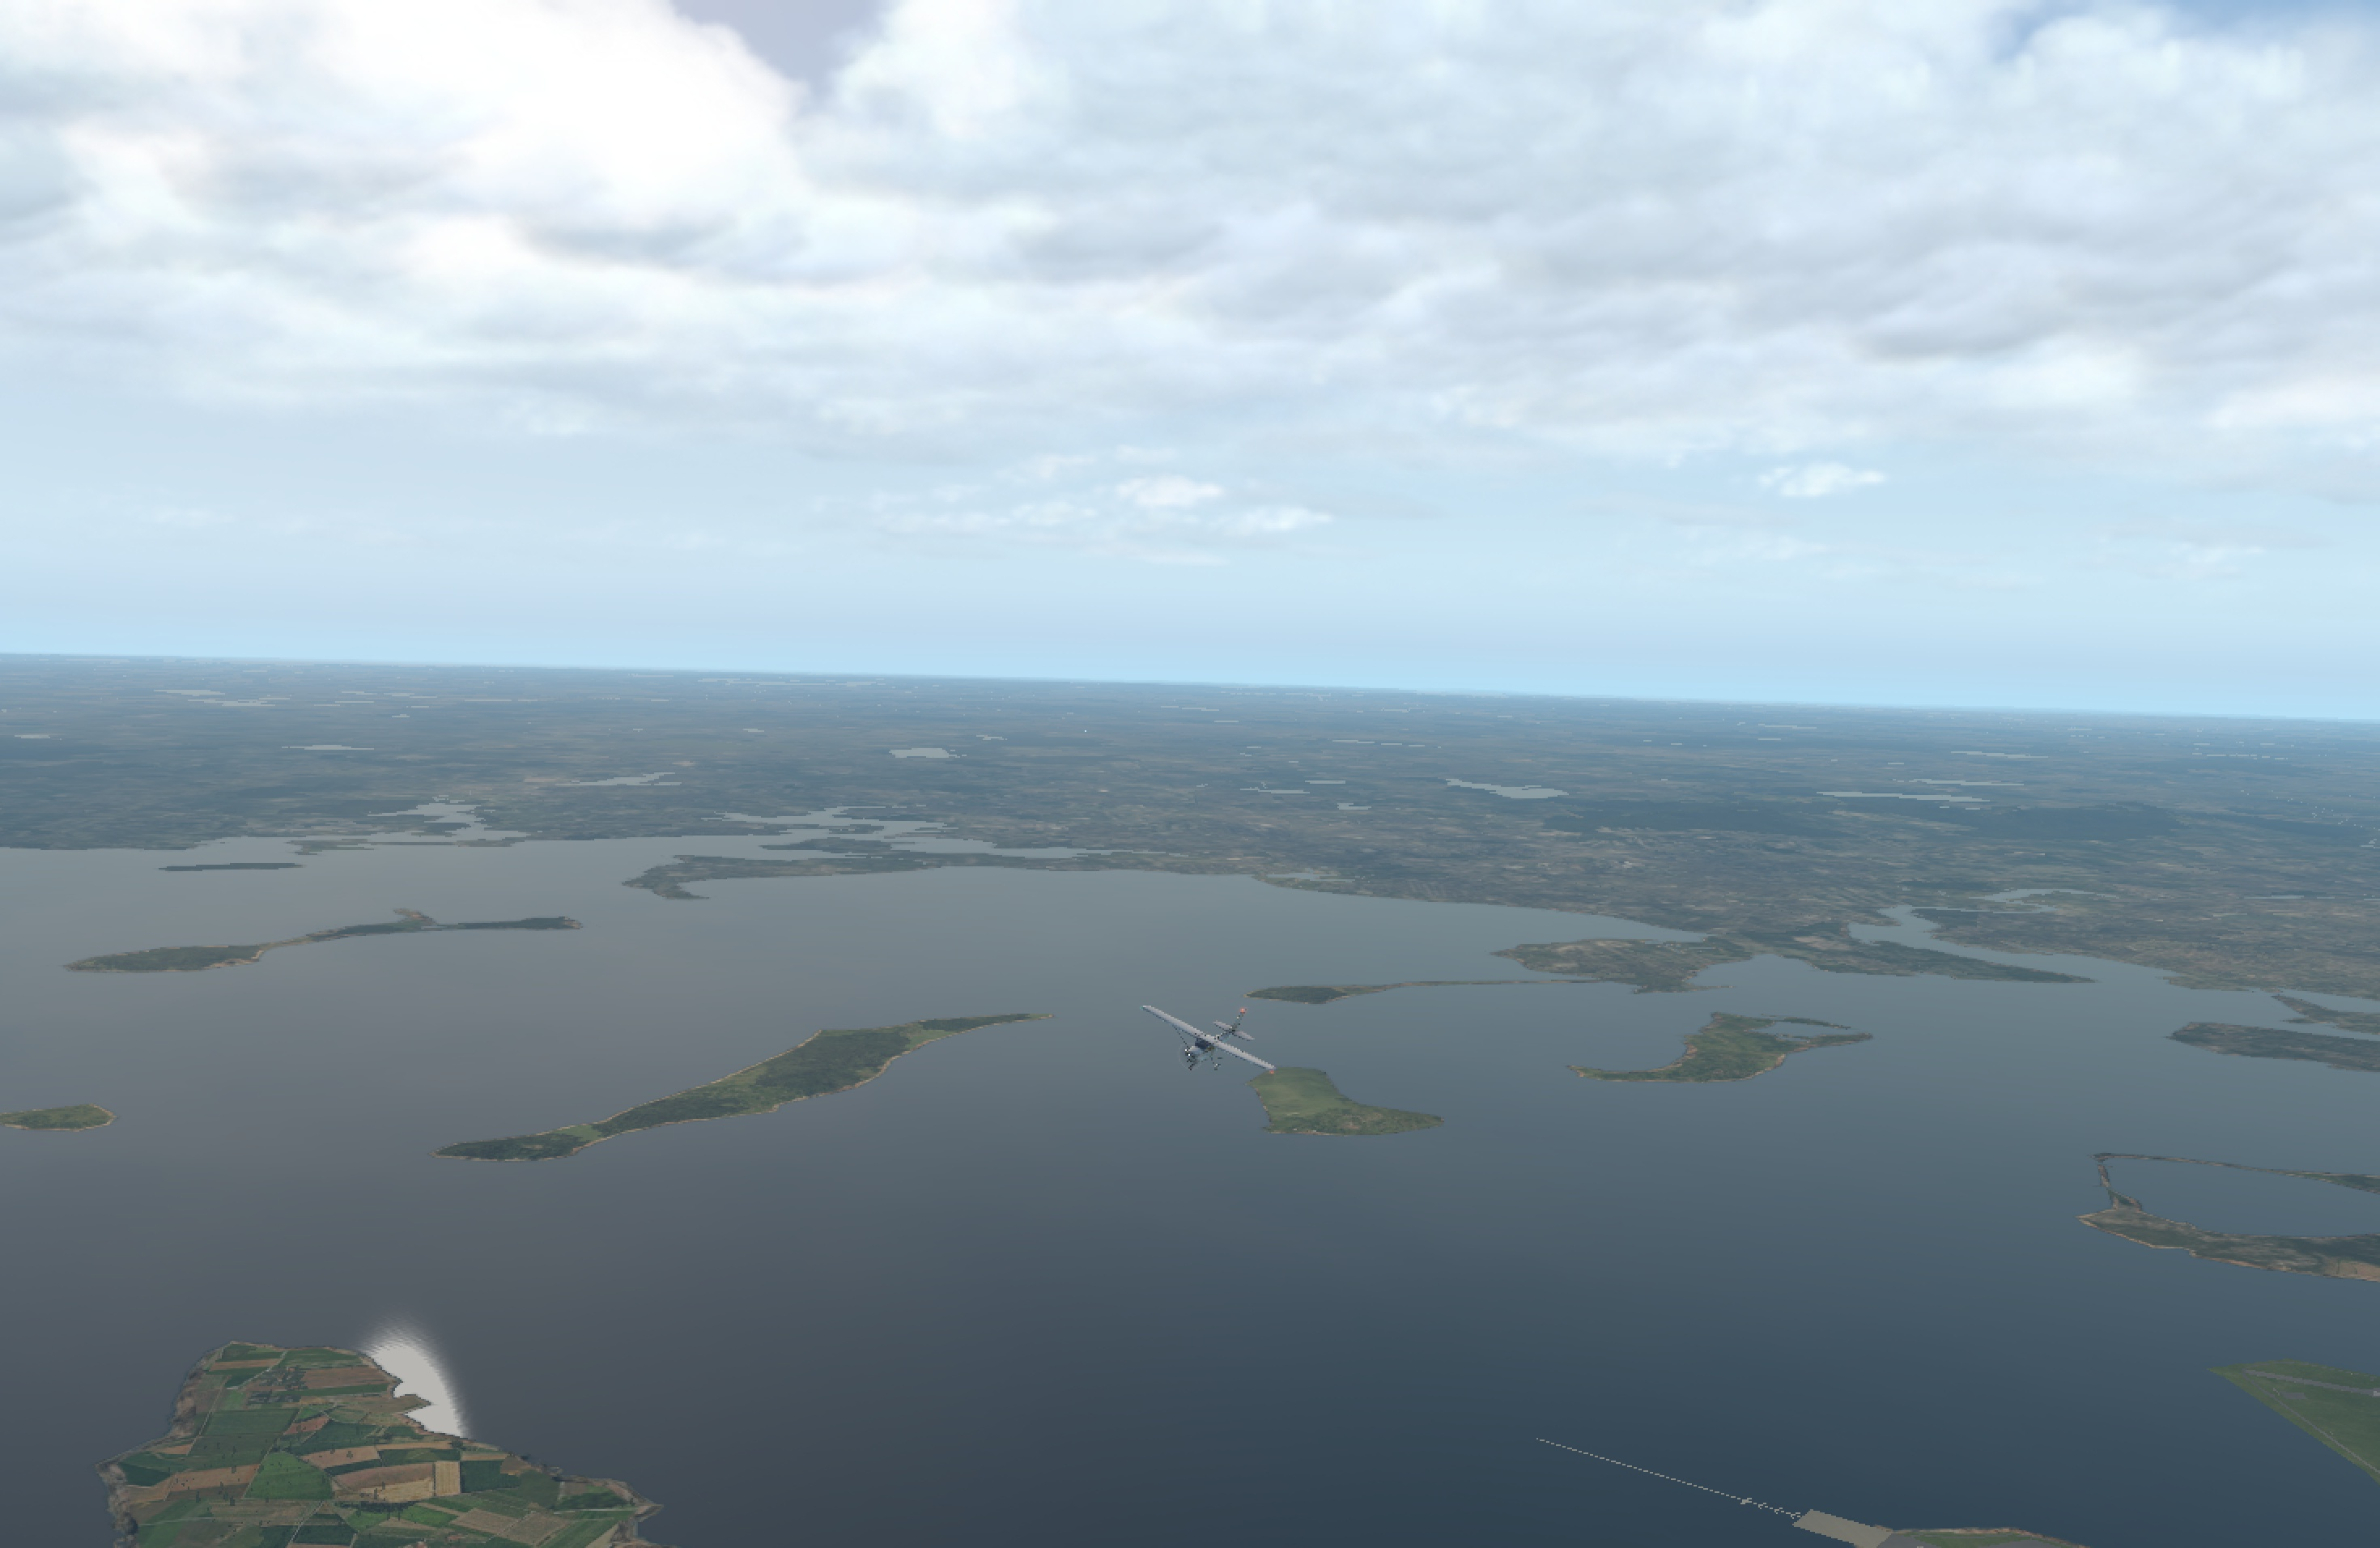aircraft: (1148, 1026, 1259, 1067)
